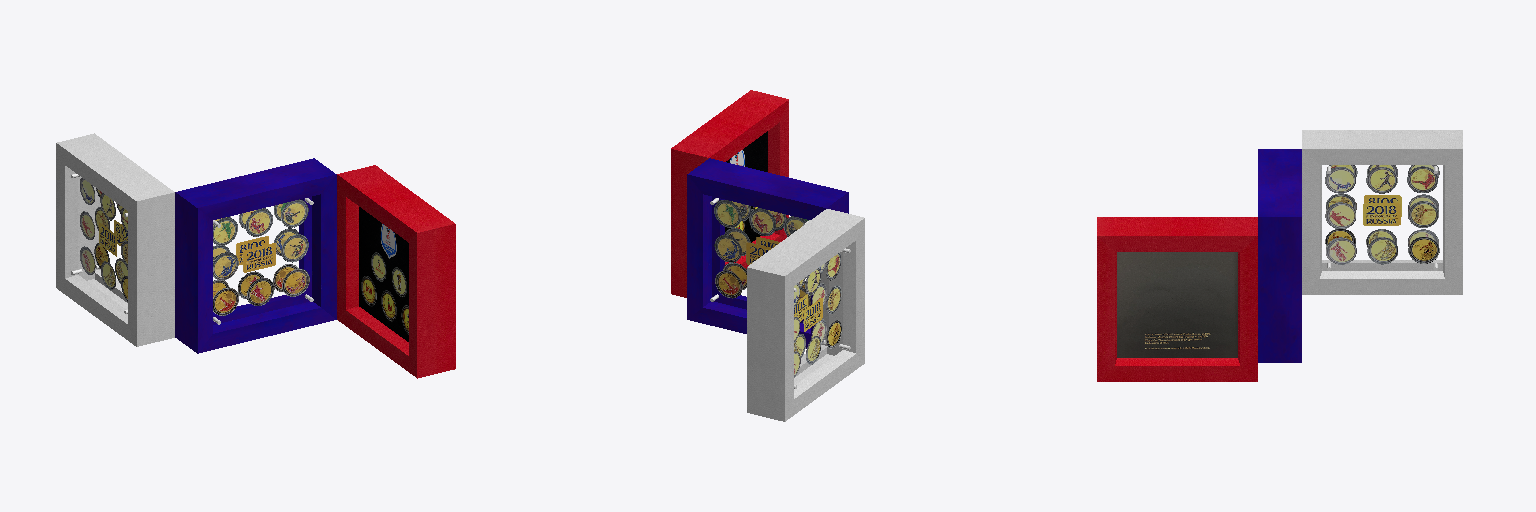
3 renders of one model, left to right at view 1: azimuth 30°, elevation 25°; view 2: azimuth 150°, elevation 25°; view 3: azimuth 270°, elevation 25°, orthographic.
Size of the model in its own units: 311 by 200 by 455.
1 materials, 1 textured.